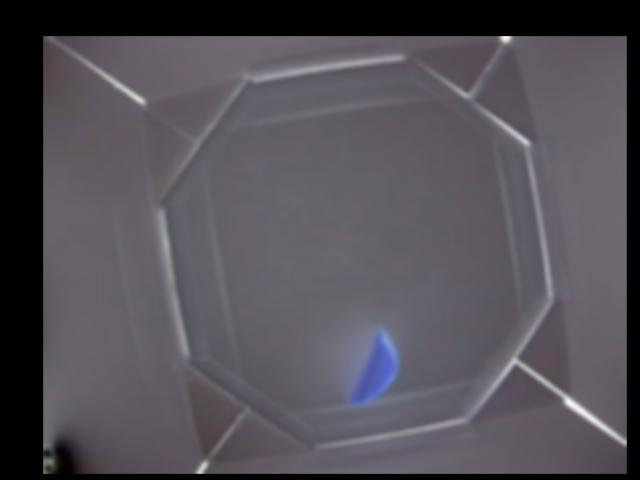Potato: (347, 328, 401, 406)
